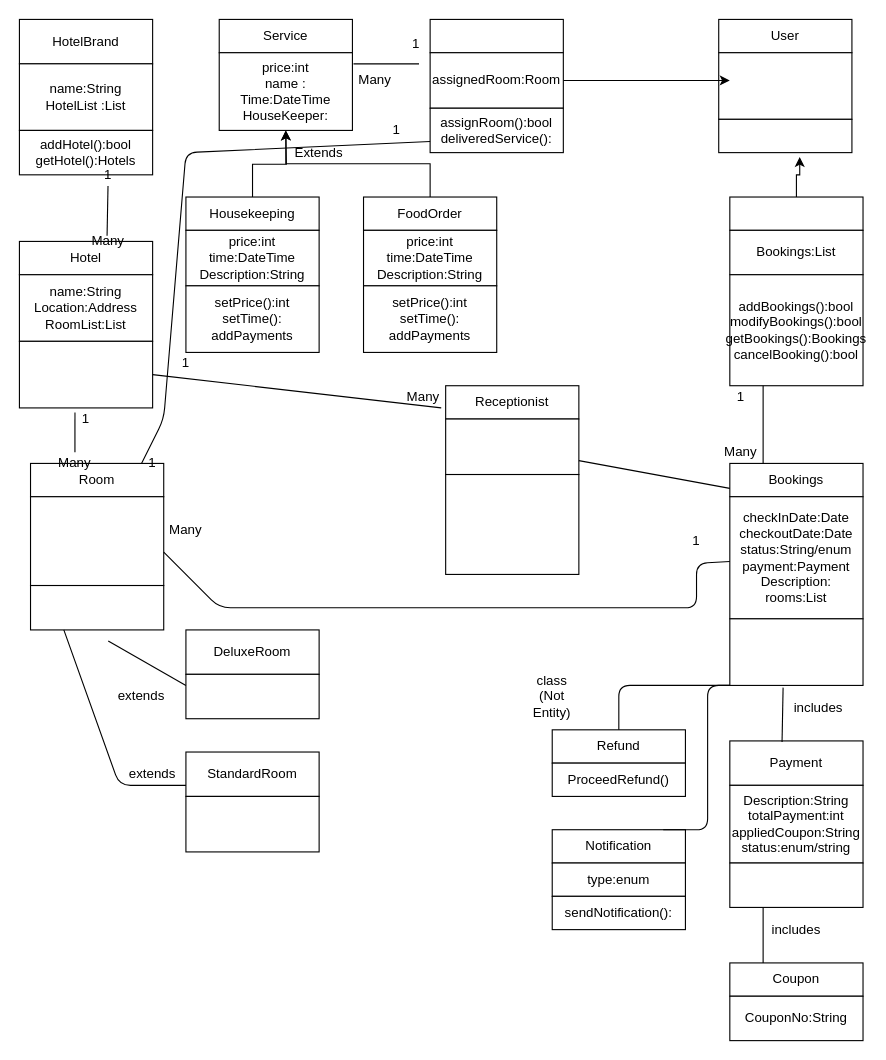
The diagram is 886 pixels wide and 1060 high, and some of its shapes have lost their labels. The shapes that lost their labels are listed below. From the top down, each one's centre as x and y in pixels, then its label:
At point 496,35: "HouseKeeper".
At point 785,85: "name:String PhoneNo:String address:Address".
At point 796,213: "Customer".
At point 85,374: "addRoom():bool removeRomm():bool getRoom():Rooms".
At point 512,446: "hotel:Hotel hotelBookings:List".
At point 96,541: "RoomNo:String/int status:enum price:int AC:bool HotelName:".
At point 512,523: "addBookings():bool addRoom():bool modifyRoom() removeRoom() checkIn() Checkout()".
At point 96,607: "setStatus:void (other getter/setters)".
At point 796,651: "makePayment() cancelBooking()".
At point 796,884: "applyCoupon(): pay():".
